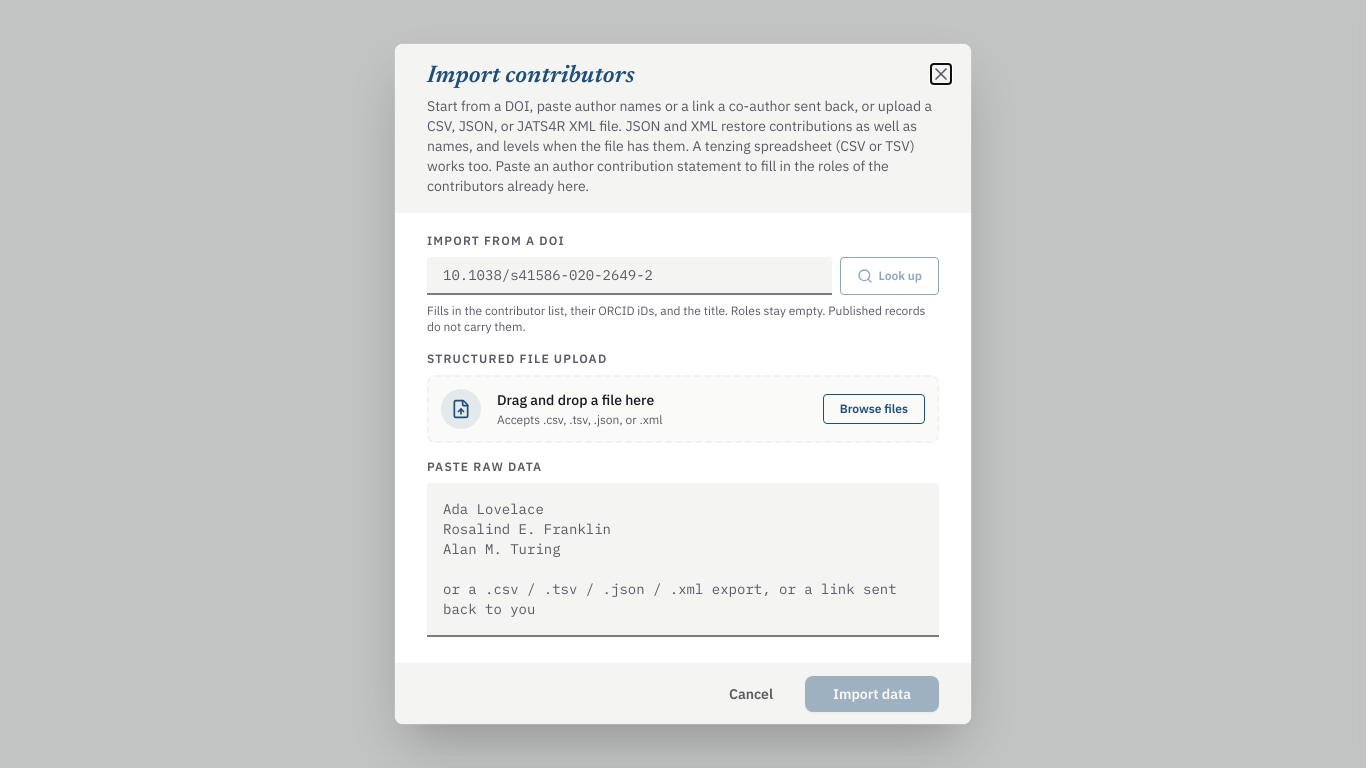
Test: a pasted CRediT statement › says so when nothing matches the draft
Type "10.1234/abcd" into the field labelled "Import from a DOI" at (629, 276), box [427, 257, 832, 295]
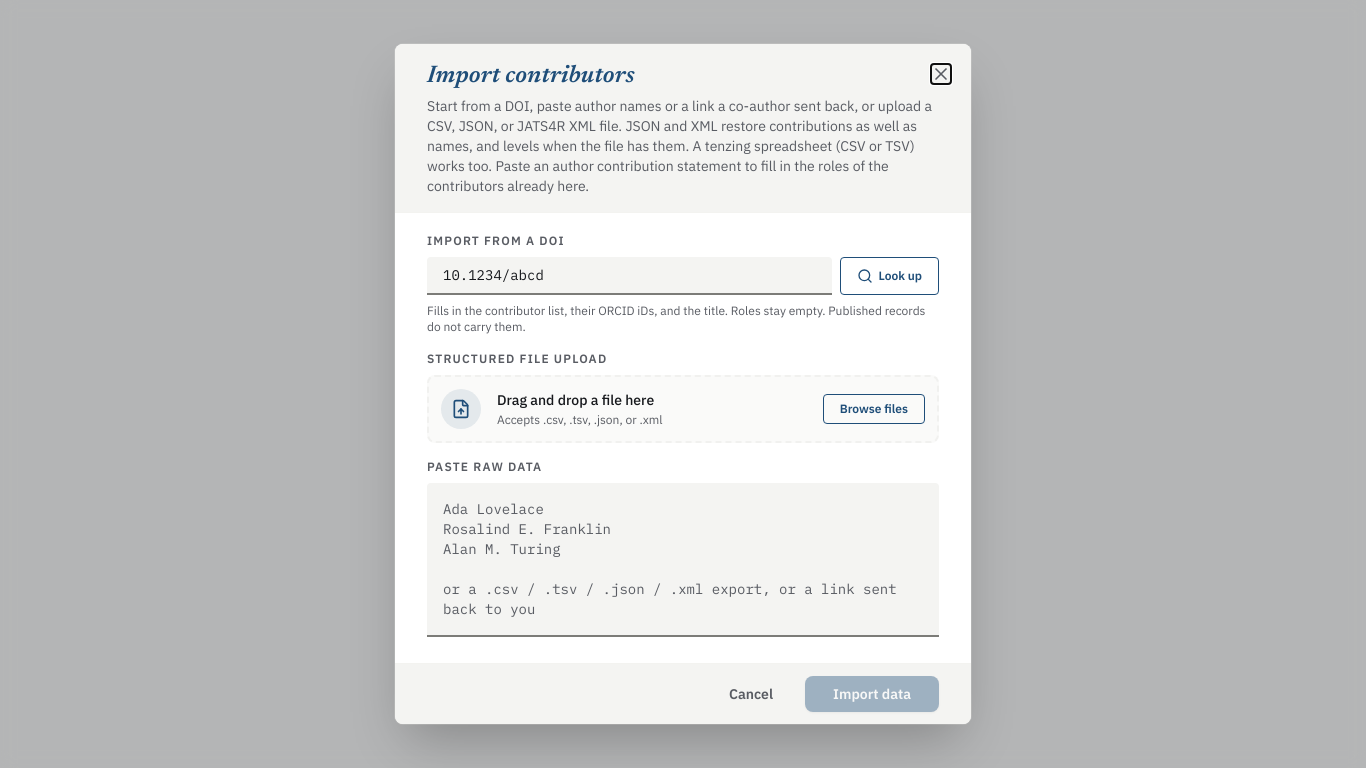
Replace the text in the text box labelled "Paste raw data" with "XY: conceptualization." at (683, 560), box [427, 483, 939, 637]
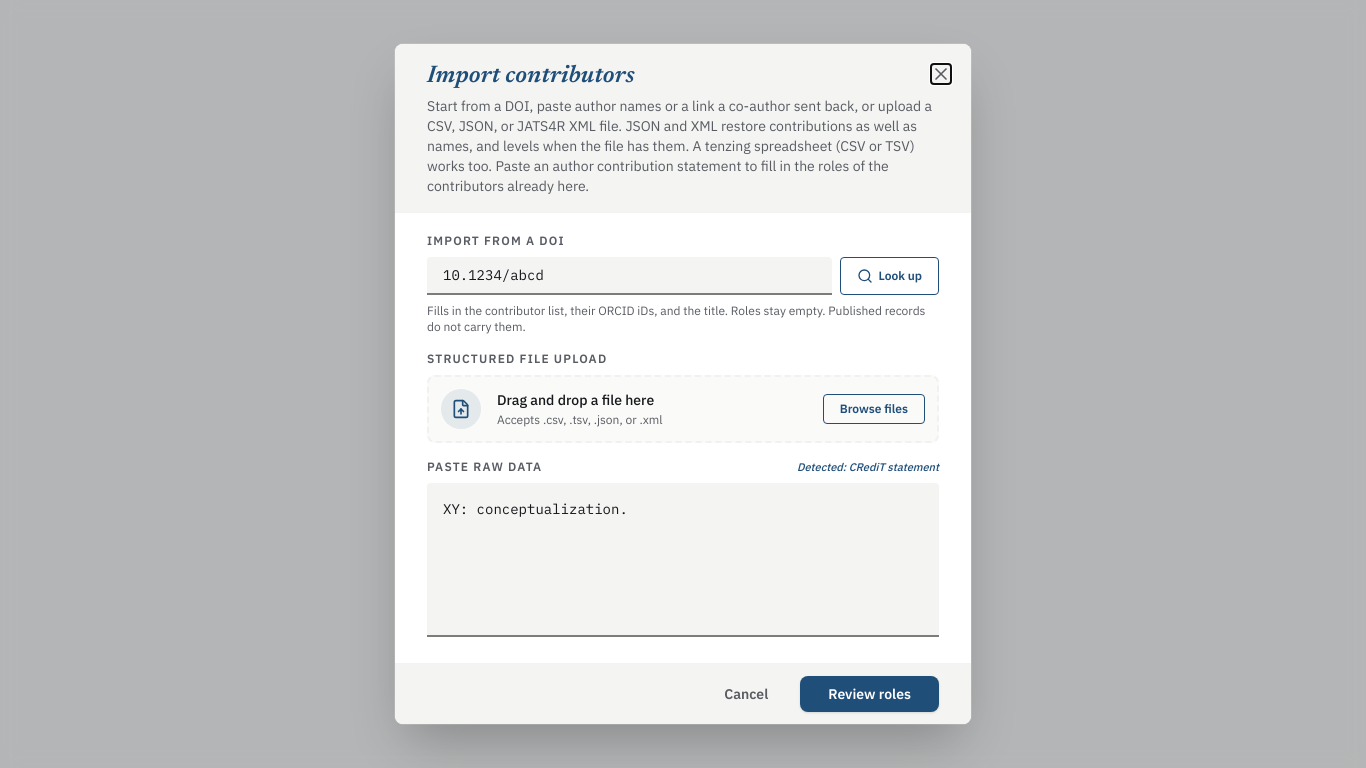
Click the button "Review roles" at (870, 694), box [800, 676, 939, 712]
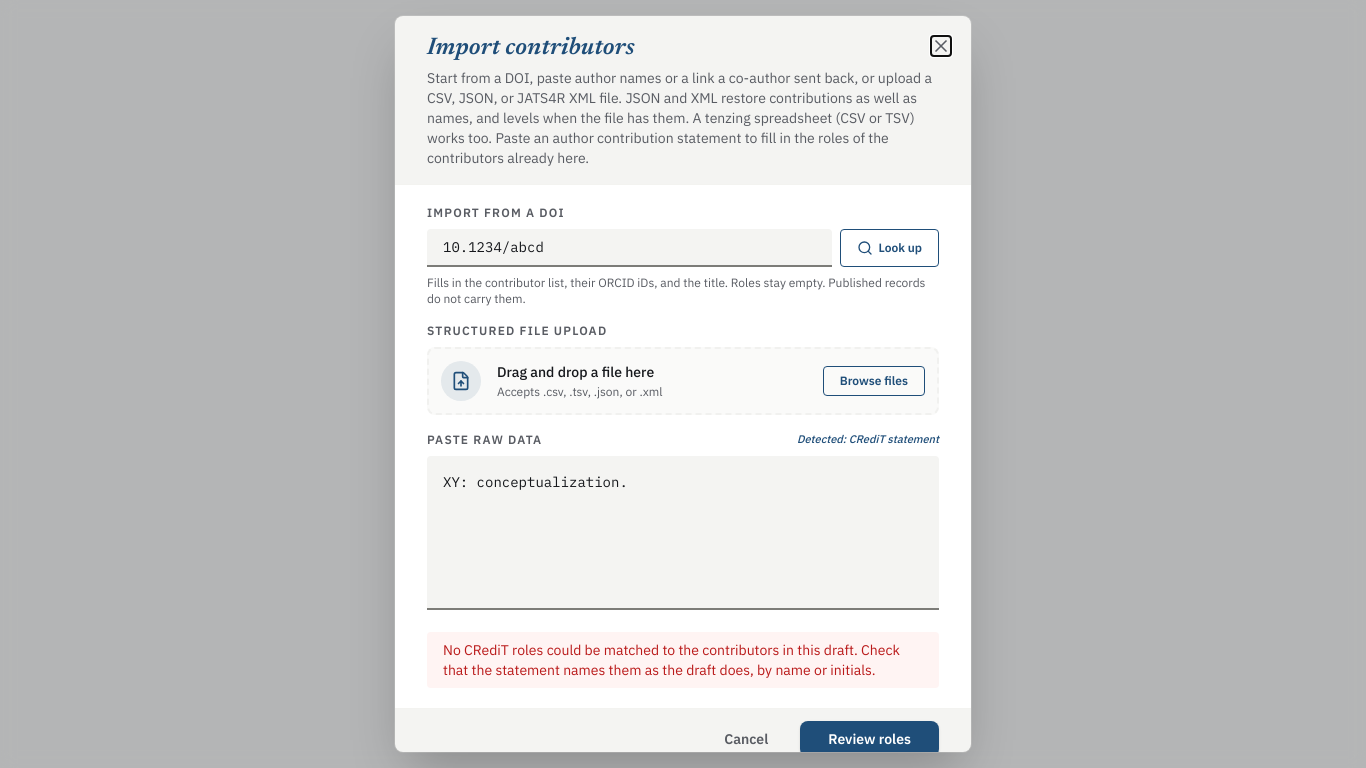
Expected: the text "No CRediT roles could be matched to the contributors in this draft. Check that the statement names them as the draft doe" is shown, [443, 640, 900, 678]
